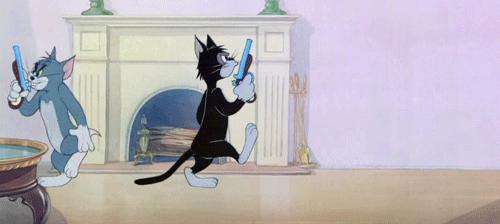tom: (7, 46, 104, 189)
